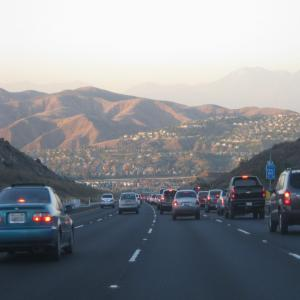Vehicle-registration-plate: (11, 213, 26, 225), (247, 202, 253, 207), (185, 204, 190, 207)
